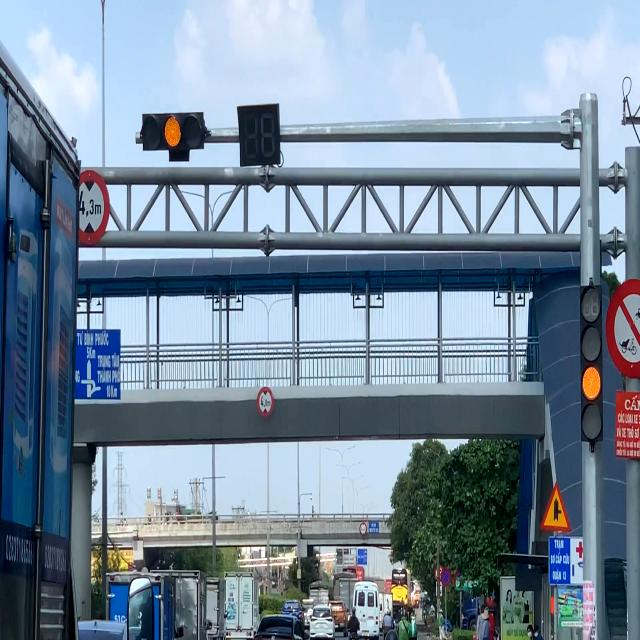P.117: (257, 384, 274, 420)
P.130: (440, 567, 451, 587)
W.207b: (539, 479, 572, 534)
